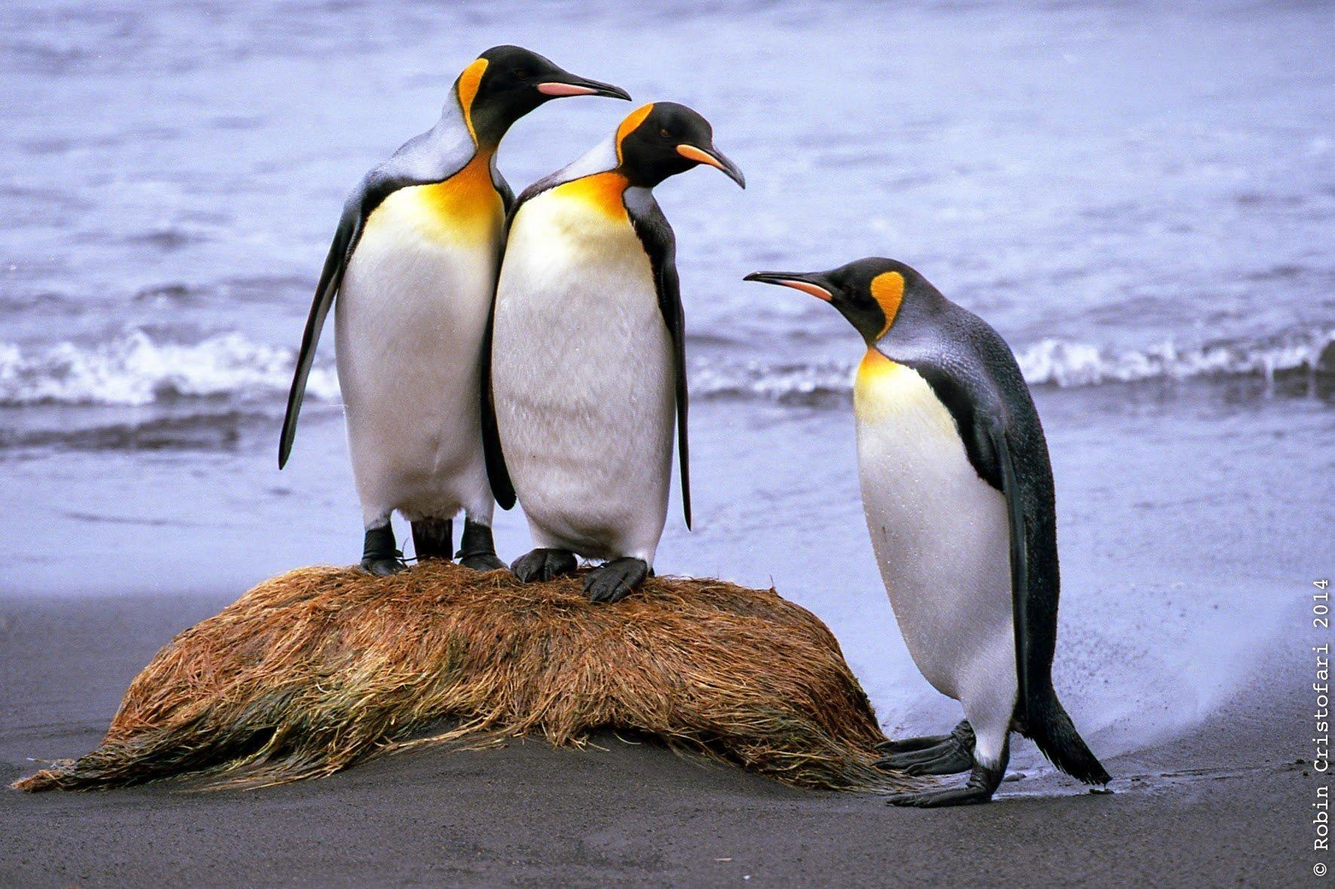Penguin: (746, 258, 1110, 806), (278, 47, 628, 577), (484, 102, 746, 599)
